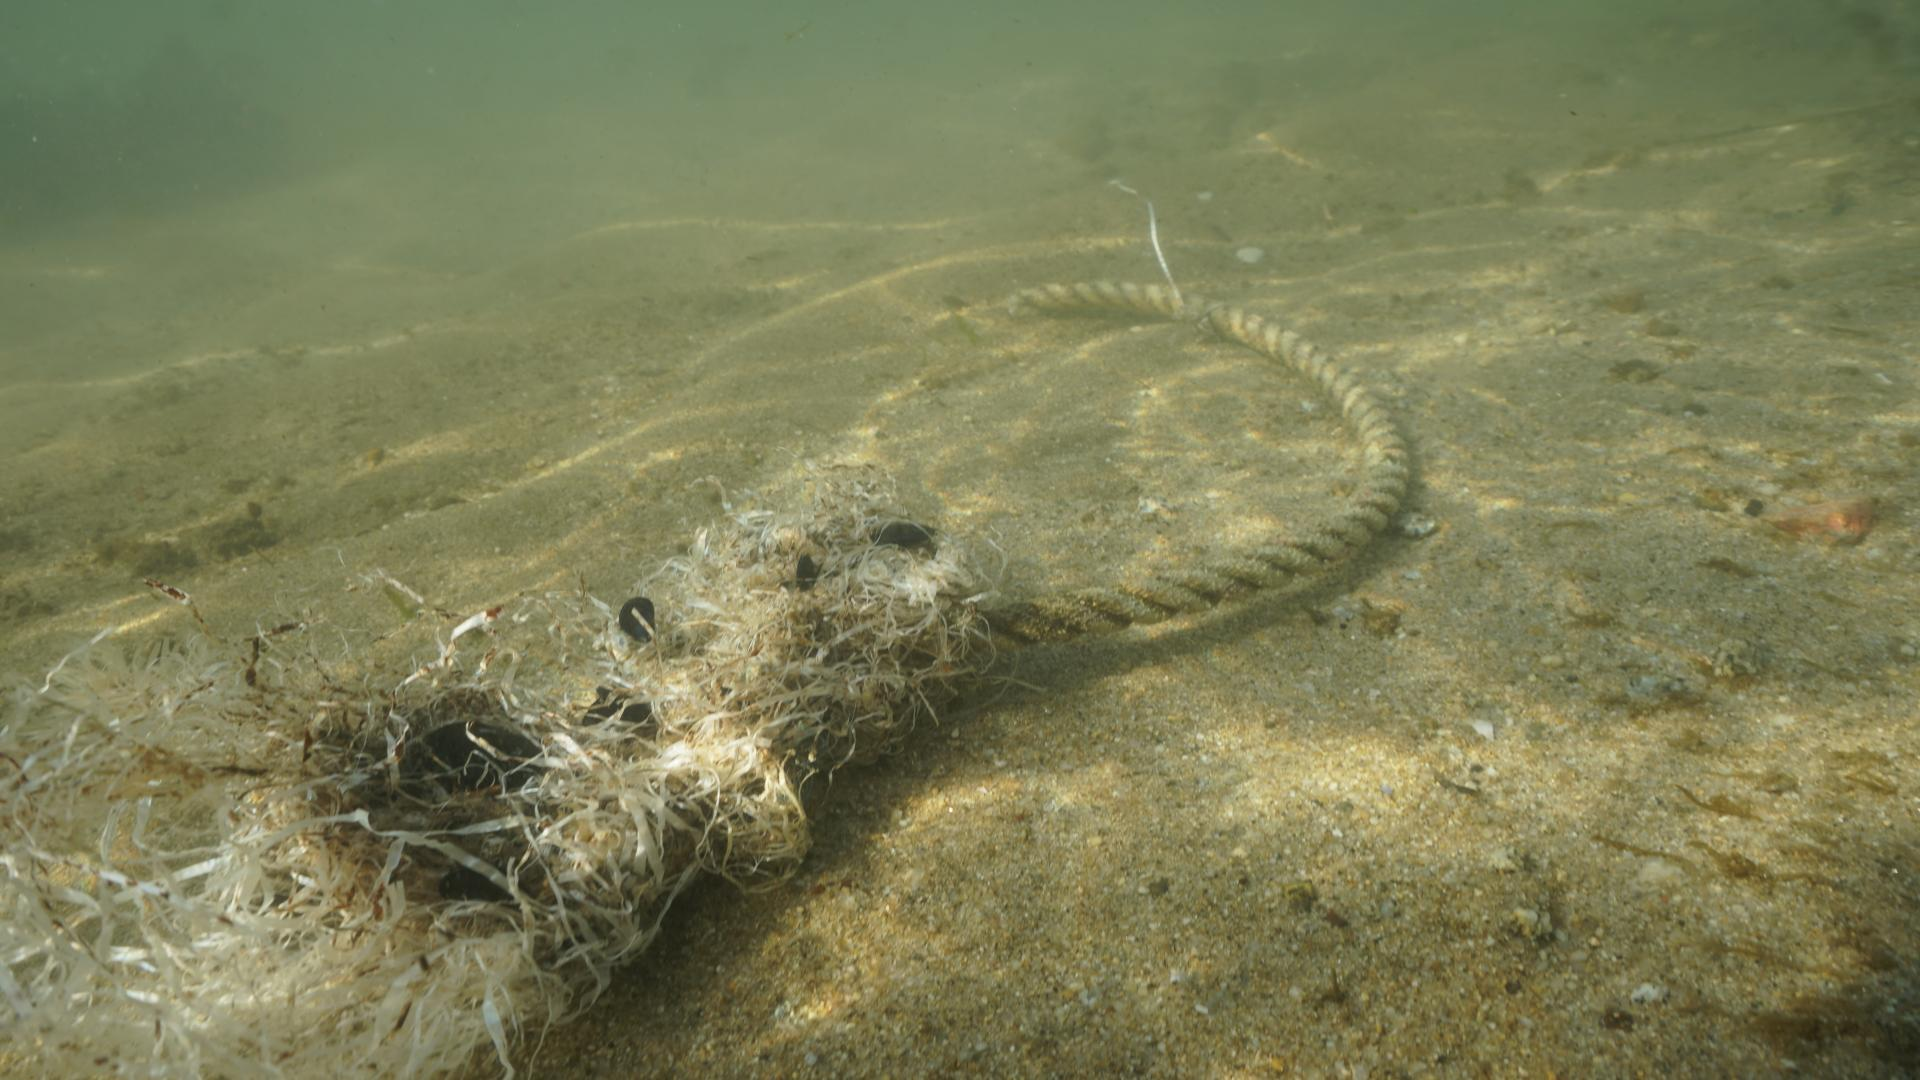rope: (972, 269, 1427, 645)
